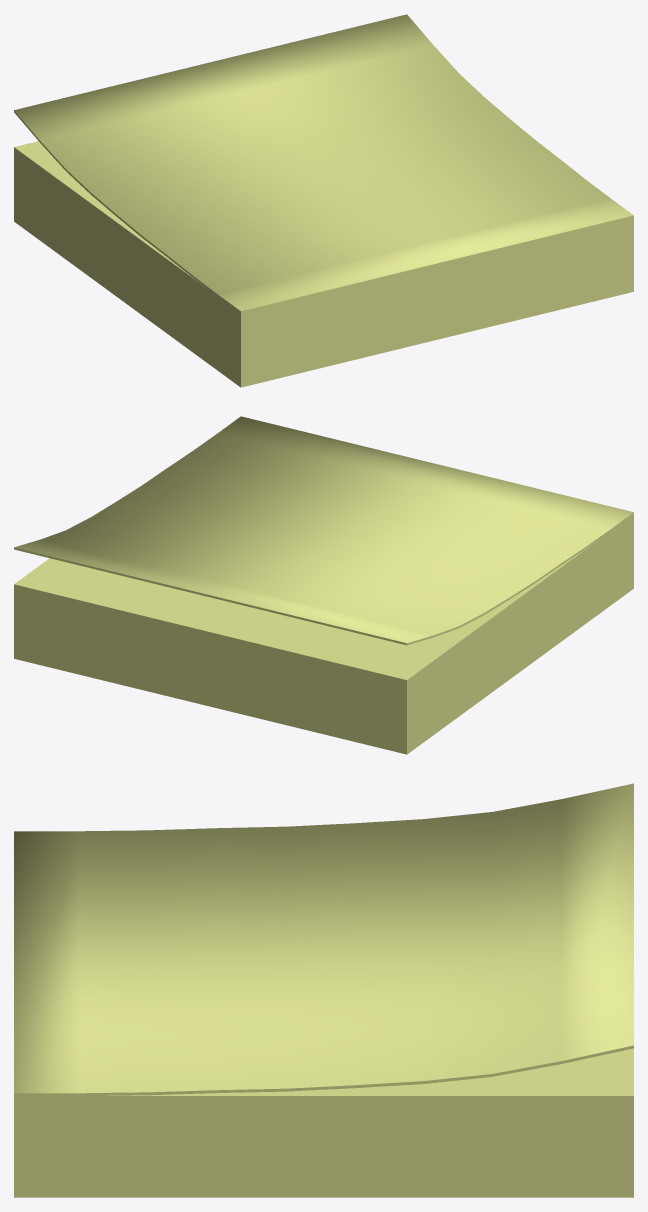
Rendered from stickynotepad.fbx.
The picture shows the model from 3 angles, top to bottom: view 1: azimuth 30°, elevation 25°; view 2: azimuth 150°, elevation 25°; view 3: azimuth 270°, elevation 25°; orthographic projection. The views are drawn at different scales.
Visible parts, largest first — view 1: Cube.001; view 2: Cube.001; view 3: Cube.001.
Boxes of the visible parts, box(x1,y1,x2,y2) form: Cube.001: box(14, 14, 633, 387); Cube.001: box(14, 416, 633, 754); Cube.001: box(14, 783, 633, 1197).
Bounding box in the file's own units: 200 × 54.15 × 200.
